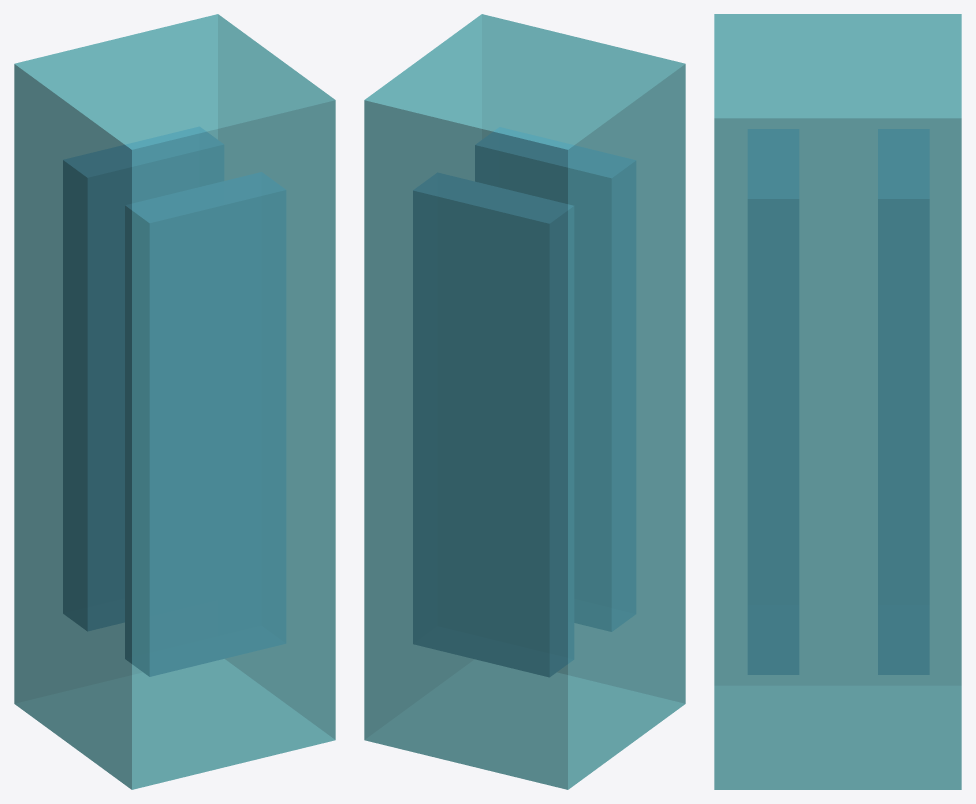
The picture shows the model from 3 angles, left to right: view 1: azimuth 30°, elevation 25°; view 2: azimuth 150°, elevation 25°; view 3: azimuth 270°, elevation 25°; orthographic projection. The views are drawn at different scales.
Visible parts, largest first — view 1: obj1, obj2, obj3; view 2: obj1, obj3, obj2; view 3: obj1, obj3, obj2.
Boxes of the visible parts, <box> form: obj1: <box>14,14,335,789</box>; obj2: <box>125,172,285,676</box>; obj3: <box>63,126,223,631</box>; obj1: <box>364,14,685,789</box>; obj3: <box>413,172,573,677</box>; obj2: <box>475,127,635,631</box>; obj1: <box>714,14,961,789</box>; obj3: <box>878,129,929,674</box>; obj2: <box>748,129,798,674</box>.
Size of the model in its own units: 100 by 300 by 100.
